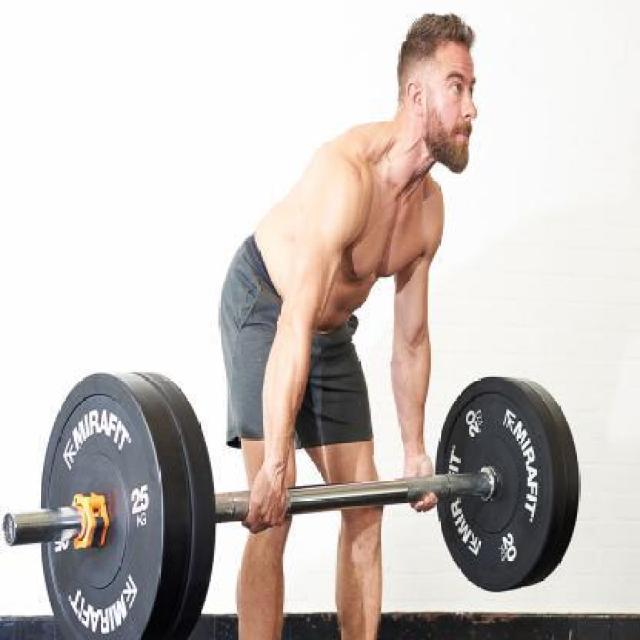barbell: (24, 358, 243, 639), (432, 369, 585, 598)
